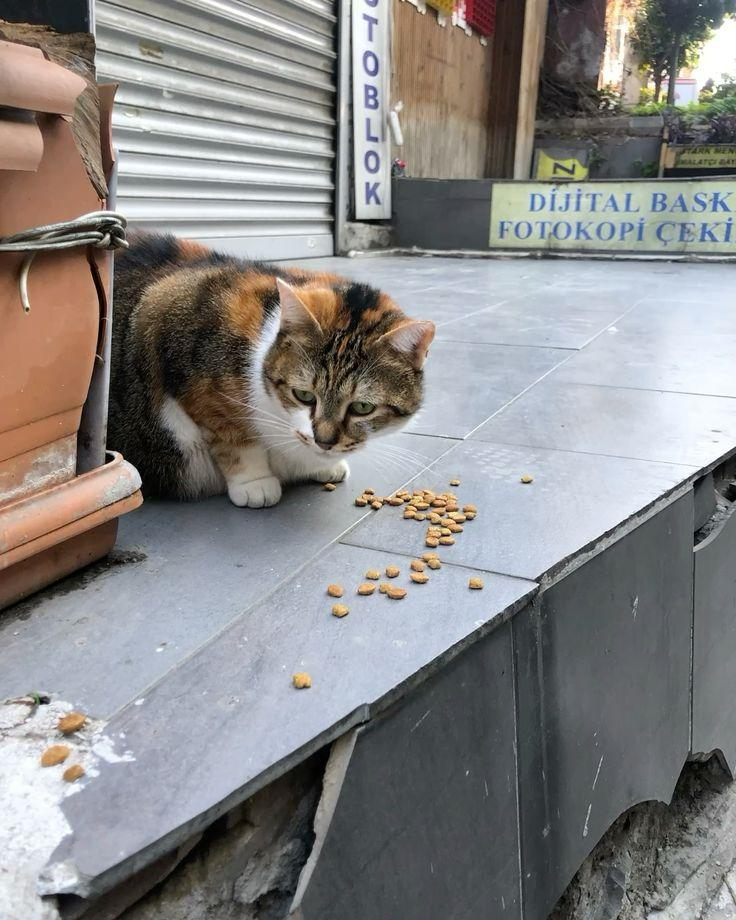kedo: (105, 235, 432, 511)
